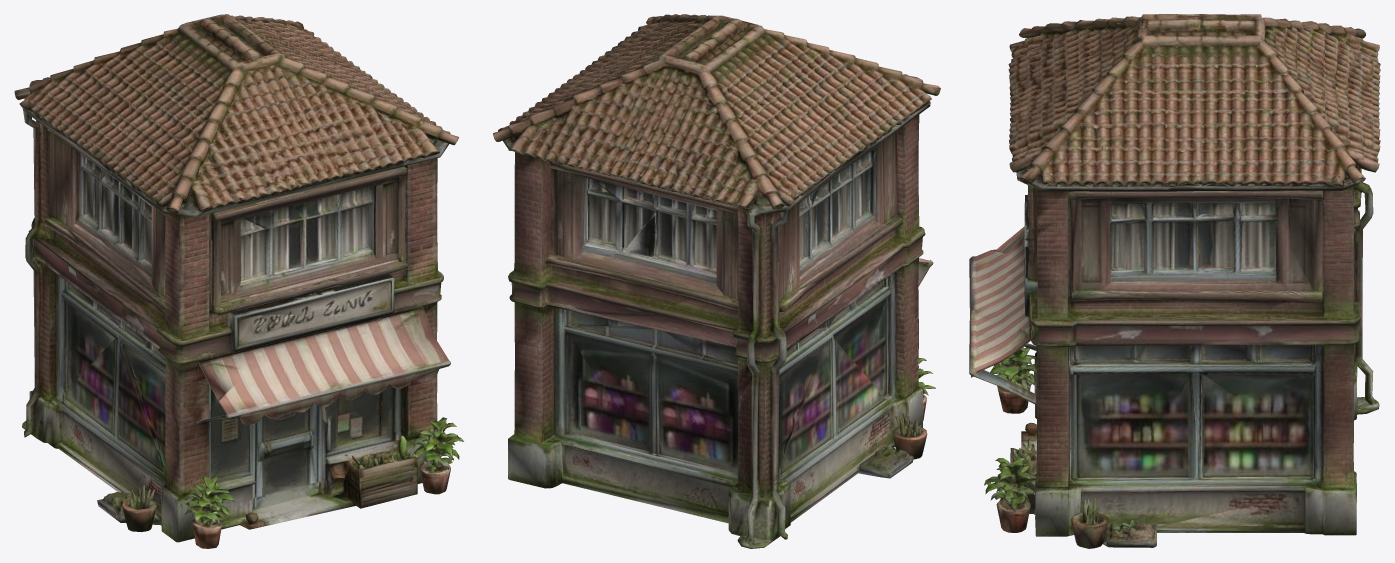
File: tienda.glb
3 renders of one model, left to right at view 1: azimuth 30°, elevation 25°; view 2: azimuth 150°, elevation 25°; view 3: azimuth 270°, elevation 25°, orthographic. The views are drawn at different scales.
Parts seen in each view (by area): view 1: Mesh_0; view 2: Mesh_0; view 3: Mesh_0.
Part boxes in pixels (bbox=[...]): Mesh_0: bbox=[14, 14, 463, 548]; Mesh_0: bbox=[493, 14, 940, 548]; Mesh_0: bbox=[969, 14, 1380, 548].
Size of the model in its own units: 1.52 by 1.91 by 1.59.
Materials: 1 (1 with a texture image).
